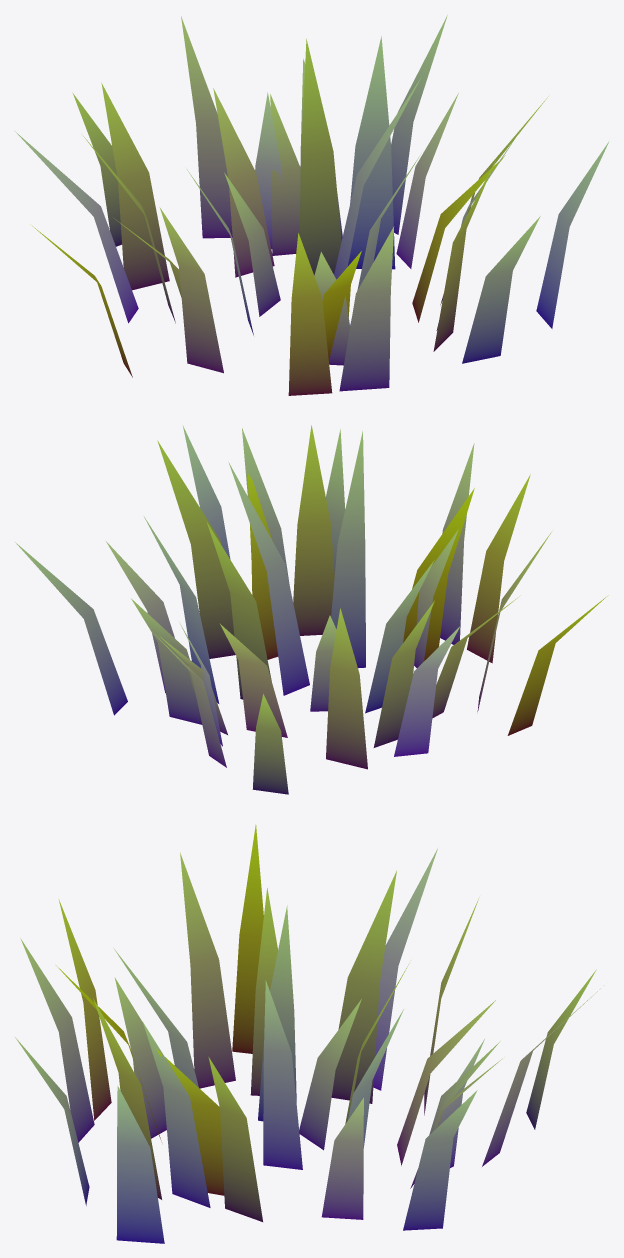
File: grass_normal.glb
3 renders of one model, top to bottom at view 1: azimuth 30°, elevation 25°; view 2: azimuth 150°, elevation 25°; view 3: azimuth 270°, elevation 25°, orthographic. The views are drawn at different scales.
Visible parts, largest first — view 1: grass_normal; view 2: grass_normal; view 3: grass_normal.
Part boxes in pixels (x1,y1,x2,y2): grass_normal: (14, 15, 608, 395); grass_normal: (15, 425, 608, 794); grass_normal: (15, 824, 604, 1243).
Size of the model in its own units: 0.6828 by 0.2697 by 0.6342.
